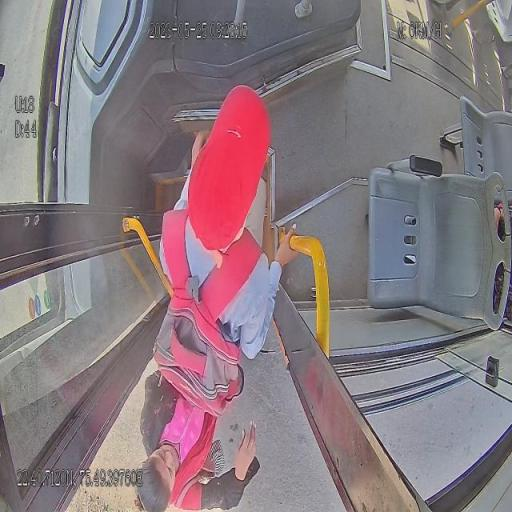persona: (136, 84, 299, 418), (126, 364, 260, 512)
